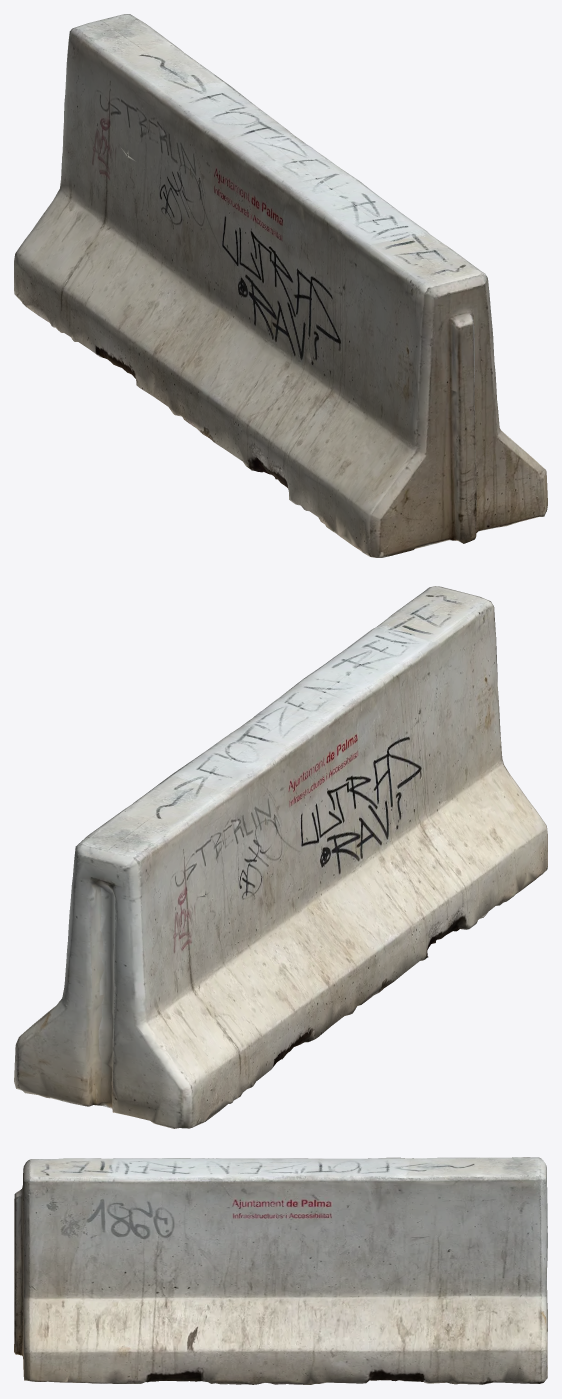
Rendered from concrete_road_barrier_photoscanned.glb.
3 views of the same model, one above another, from view 1: azimuth 30°, elevation 25°; view 2: azimuth 150°, elevation 25°; view 3: azimuth 270°, elevation 25° (orthographic). The views are drawn at different scales.
Parts seen in each view (by area): view 1: road_barrier_mid_poly_concreteRoadBarrier_low_0; view 2: road_barrier_mid_poly_concreteRoadBarrier_low_0; view 3: road_barrier_mid_poly_concreteRoadBarrier_low_0.
Boxes of the visible parts, left/top/right/bottom form: road_barrier_mid_poly_concreteRoadBarrier_low_0: left=14, top=14, right=547, bottom=557; road_barrier_mid_poly_concreteRoadBarrier_low_0: left=14, top=586, right=547, bottom=1128; road_barrier_mid_poly_concreteRoadBarrier_low_0: left=14, top=1157, right=547, bottom=1384.
Size of the model in its own units: 0.5793 by 0.7909 by 2.05.
1 material, 1 textured.
